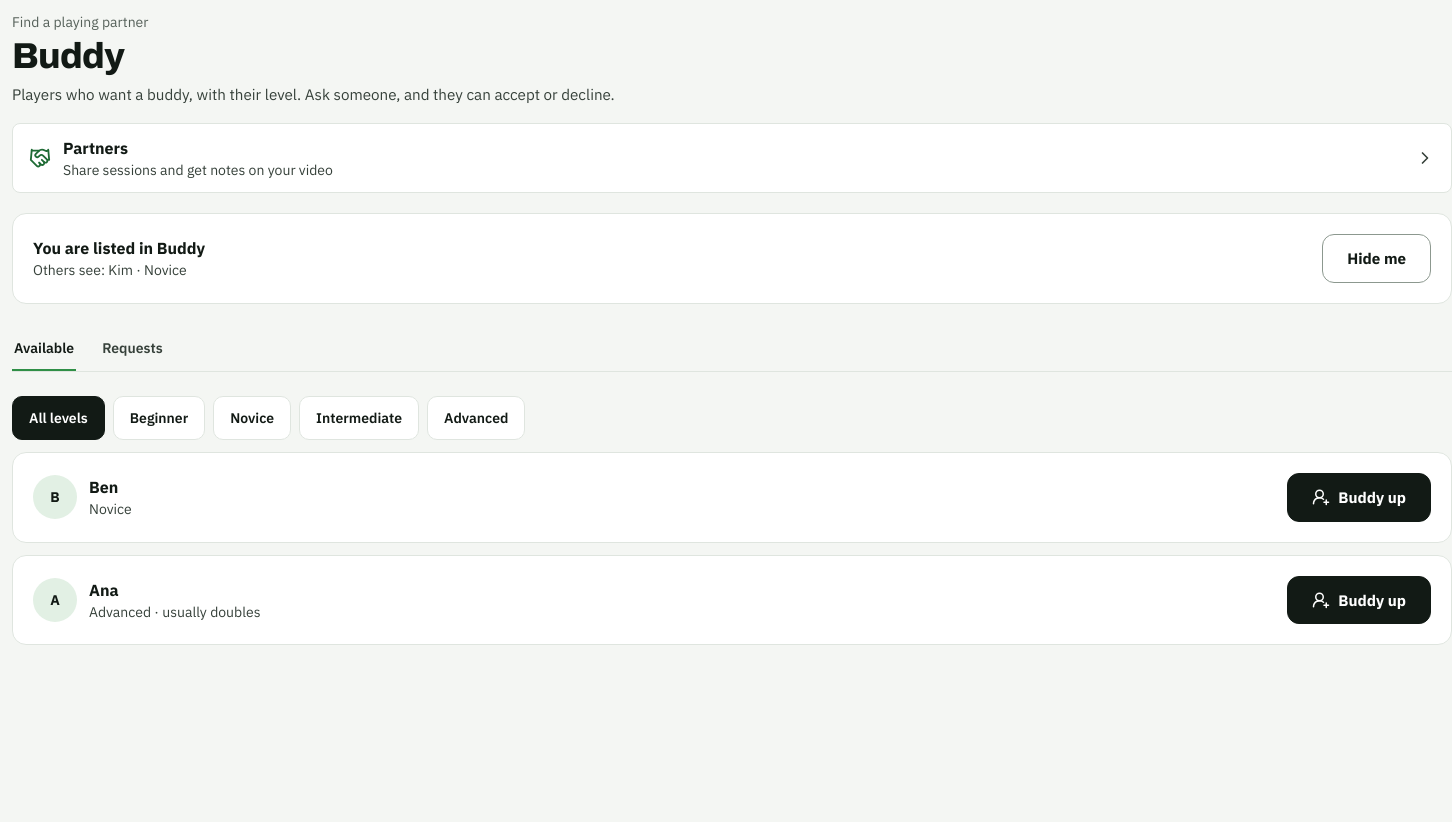
Test: Buddy › lists available players with their level and filters by level
Check: the text "Advanced · usually doubles" is shown, box x1=89 y1=603 x2=260 y2=621
Click the button "Advanced". click: (476, 418)
box: x1=427 y1=396 x2=525 y2=440
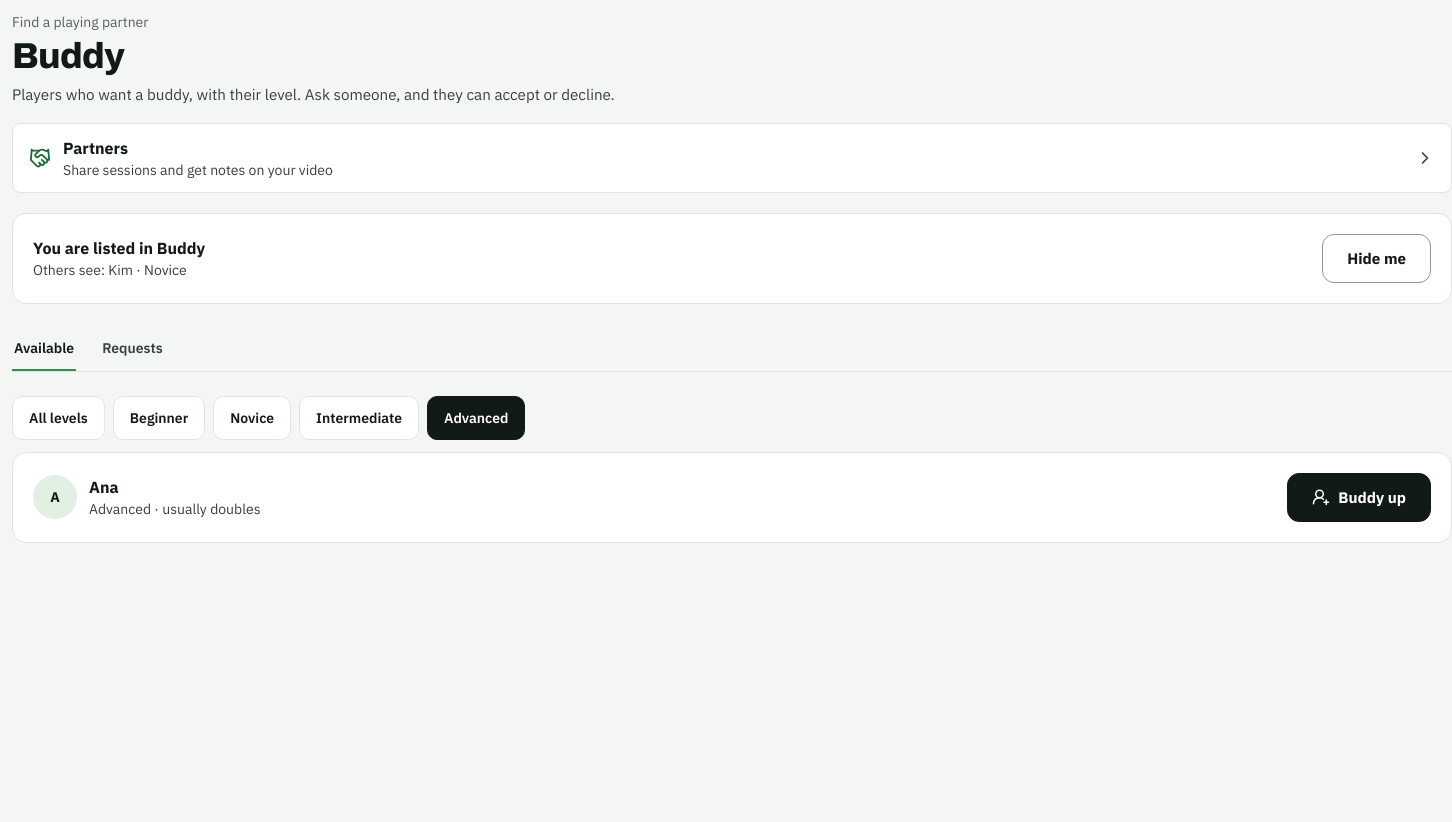
Check: the text "Ben" is gone
